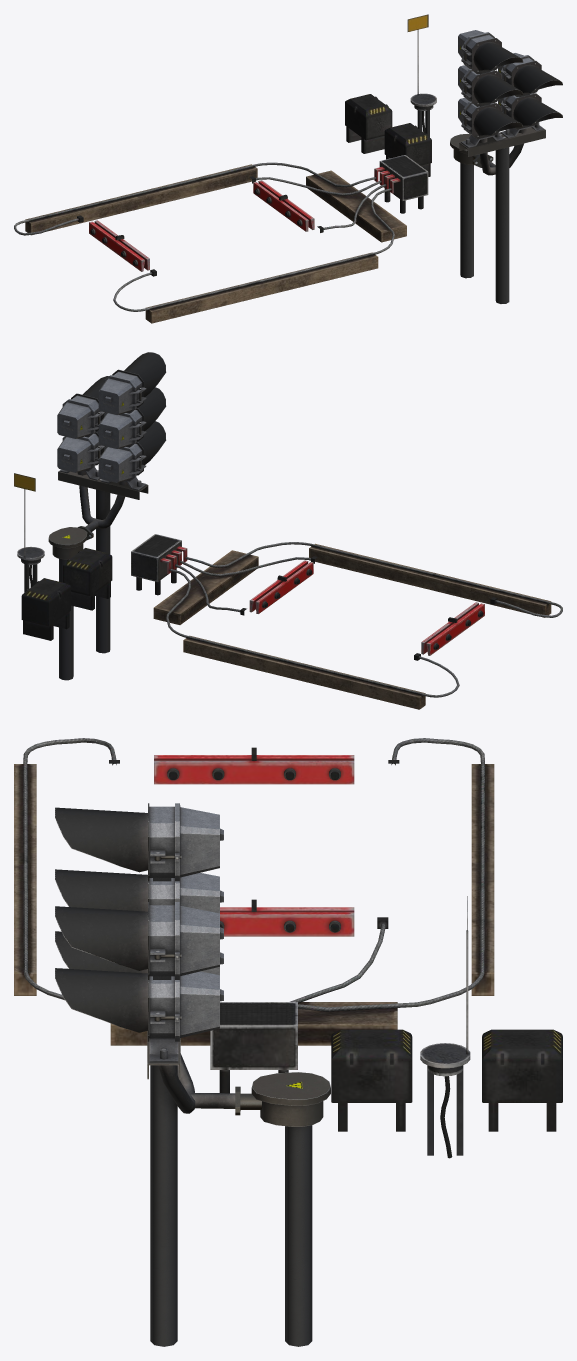
The model's file is RM_sig_P_KM1_3+2_exit.gltf.
3 views of the same model, one above another, from view 1: azimuth 30°, elevation 25°; view 2: azimuth 150°, elevation 25°; view 3: azimuth 270°, elevation 25° (orthographic). The views are drawn at different scales.
Visible parts, largest first — view 1: Изостык, Cylinder001, Box002, Box003; view 2: Изостык, Box002, Cylinder001, Box003; view 3: Изостык, Cylinder001, Box003, Box002.
Boxes of the visible parts, x1=… form: Изостык: x1=14, y1=14, x2=436, y2=323; Cylinder001: x1=450, y1=127, x2=545, y2=303; Box002: x1=458, y1=30, x2=523, y2=148; Box003: x1=498, y1=53, x2=562, y2=138; Изостык: x1=14, y1=473, x2=562, y2=709; Box002: x1=98, y1=352, x2=166, y2=490; Cylinder001: x1=48, y1=470, x2=148, y2=680; Box003: x1=57, y1=376, x2=108, y2=480; Изостык: x1=14, y1=738, x2=562, y2=1158; Cylinder001: x1=147, y1=1031, x2=330, y2=1346; Box003: x1=55, y1=902, x2=223, y2=1062; Box002: x1=55, y1=803, x2=223, y2=975.
Bounding box in the file's own units: 4.37 × 2.5 × 2.43.
Materials: 2 (2 with a texture image).
